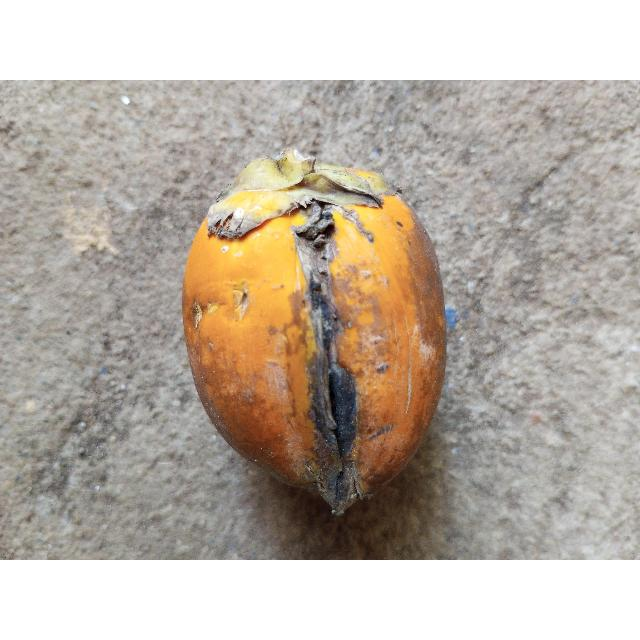damaged: (180, 151, 449, 518)
